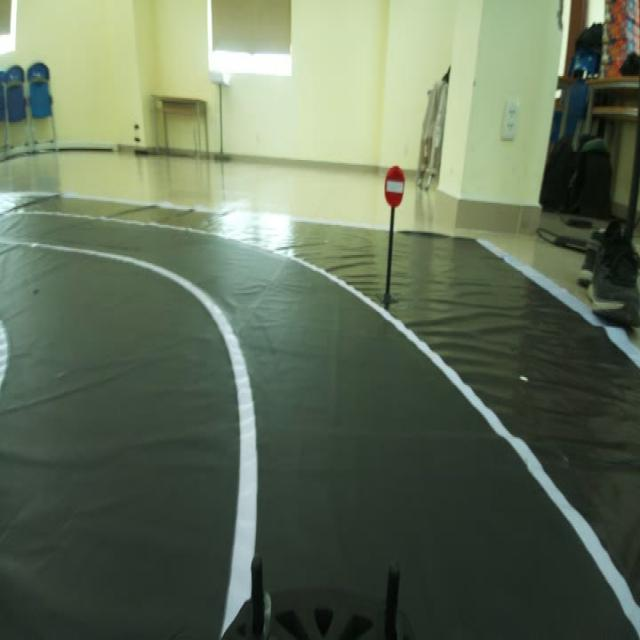no_entry: (380, 158, 410, 215)
